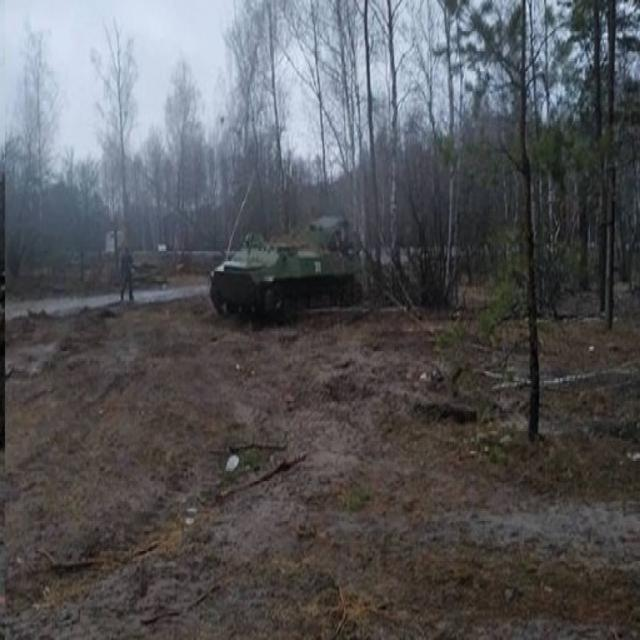APC-IFV: (206, 207, 365, 329)
